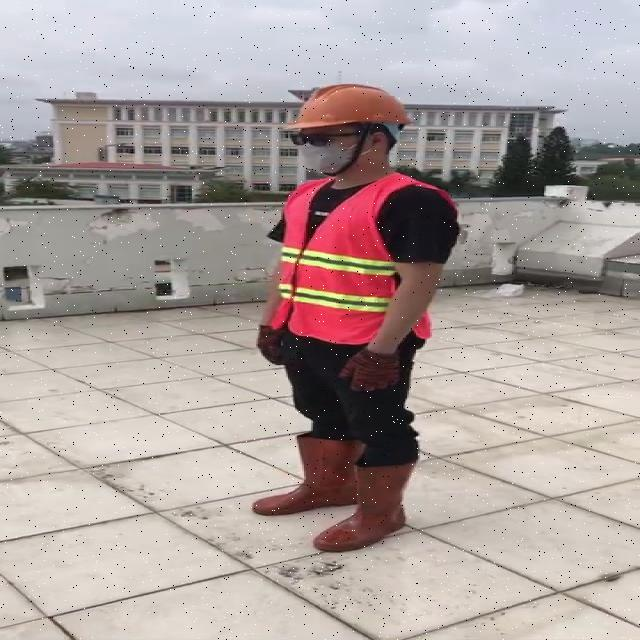Hard_hat: (284, 80, 419, 146)
Person: (240, 77, 463, 559)
Vest: (284, 171, 404, 339)
